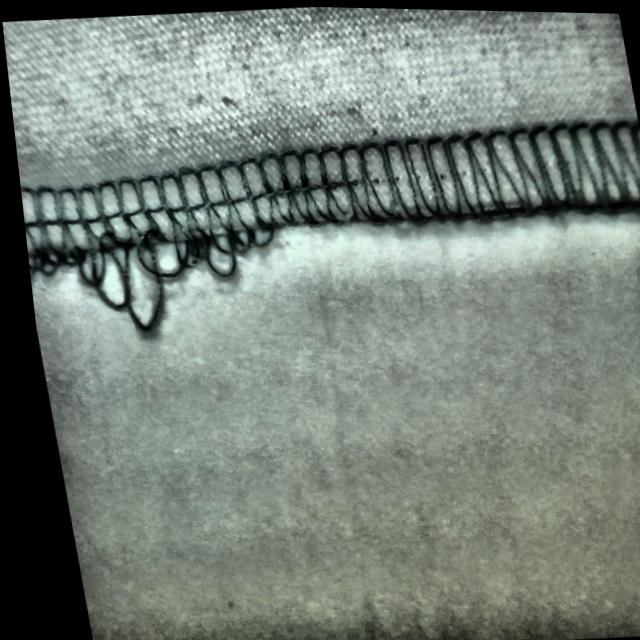Stitch: (13, 151, 286, 342)
